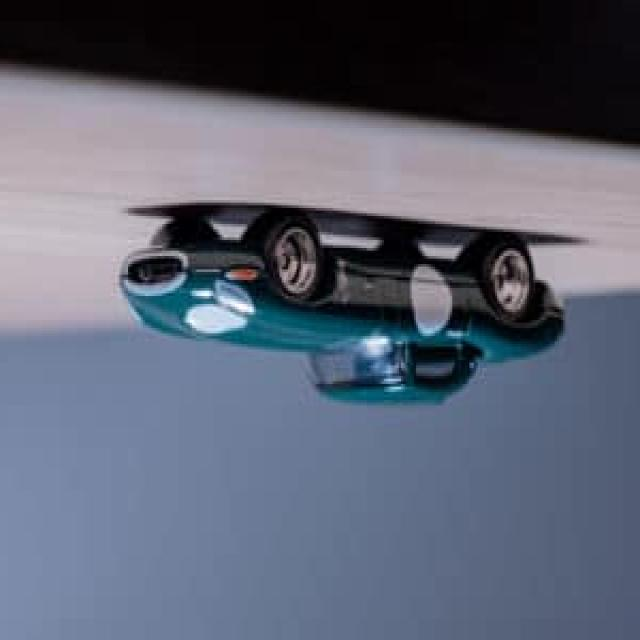Car: (120, 211, 568, 408)
